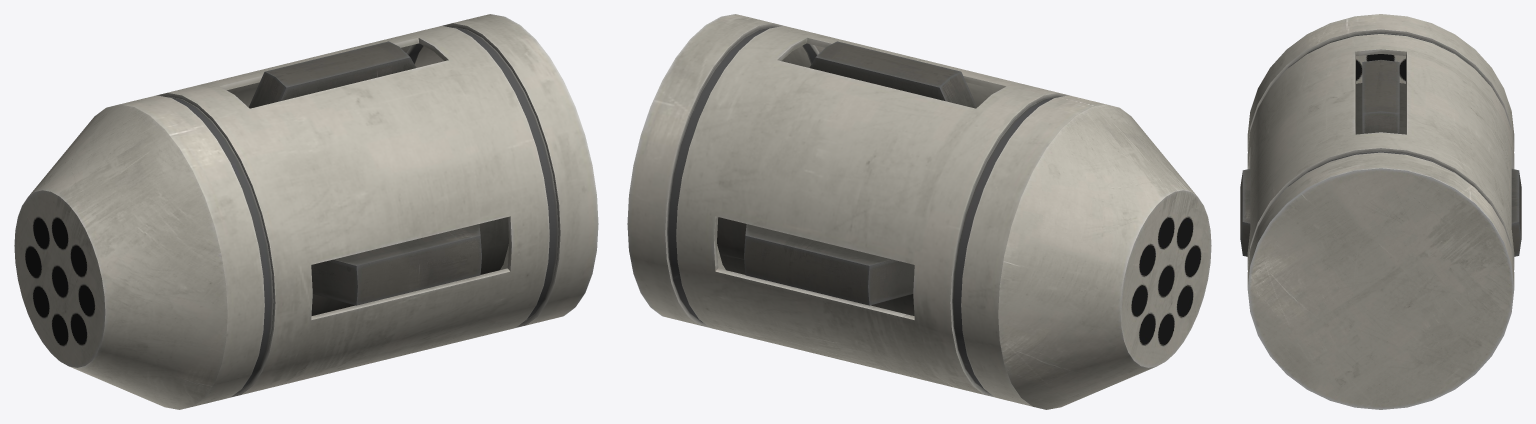
The model's file is pommel_7_c_d.glb.
The picture shows the model from 3 angles, left to right: view 1: azimuth 30°, elevation 25°; view 2: azimuth 150°, elevation 25°; view 3: azimuth 270°, elevation 25°; orthographic projection. The views are drawn at different scales.
Visible parts, largest first — view 1: pommel_7_c_d_lod0; view 2: pommel_7_c_d_lod0; view 3: pommel_7_c_d_lod0.
Part boxes in pixels (x1,y1,x2,y2): pommel_7_c_d_lod0: (14,14,598,409); pommel_7_c_d_lod0: (627,14,1211,409); pommel_7_c_d_lod0: (1240,14,1521,409).
Size of what is drawn, in the model's own units: 0.0492 by 0.0305 by 0.0305.
1 material, 1 textured.
